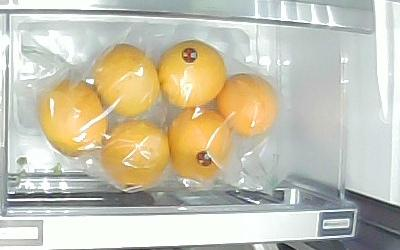orange_vinyl: (38, 79, 108, 157), (91, 43, 160, 119), (166, 106, 234, 182), (158, 39, 228, 110), (100, 120, 169, 189), (216, 74, 279, 138)
